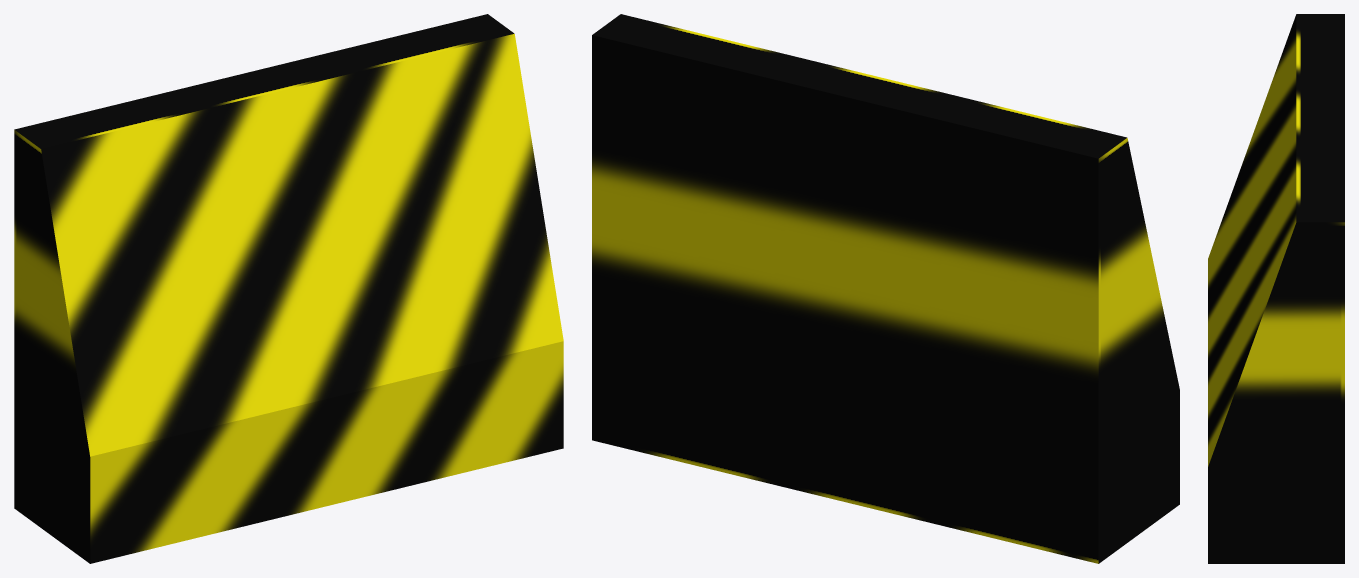
Rendered from roadblock.glb.
3 renders of one model, left to right at view 1: azimuth 30°, elevation 25°; view 2: azimuth 150°, elevation 25°; view 3: azimuth 270°, elevation 25°, orthographic. The views are drawn at different scales.
Visible parts, largest first — view 1: Cube; view 2: Cube; view 3: Cube.
Part boxes in pixels (x1,y1,x2,y2): Cube: [14, 14, 563, 563]; Cube: [592, 14, 1179, 563]; Cube: [1208, 14, 1344, 563].
Size of the model in its own units: 1.27 by 0.9677 by 0.3516.
Materials: 1 (1 with a texture image).
